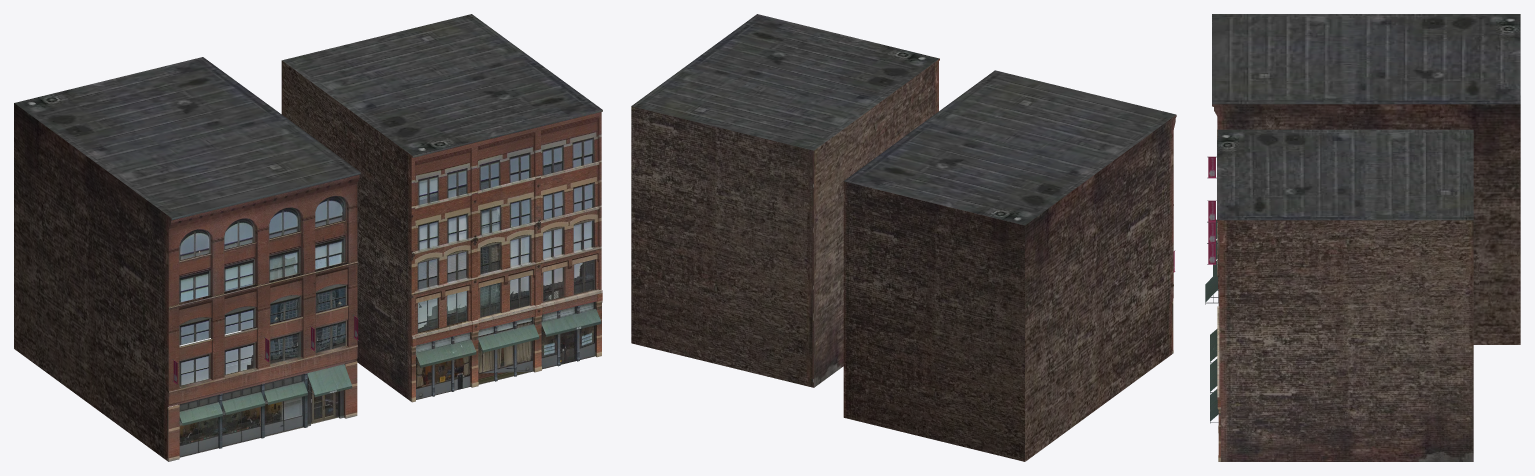
The model's file is chicago_buildings.glb.
The picture shows the model from 3 angles, left to right: view 1: azimuth 30°, elevation 25°; view 2: azimuth 150°, elevation 25°; view 3: azimuth 270°, elevation 25°; orthographic projection. The views are drawn at different scales.
Parts seen in each view (by area): view 1: Object_4, Object_6; view 2: Object_4, Object_6; view 3: Object_6, Object_4.
Part boxes in pixels (<box>): Object_4: <box>14,57,360,461</box>; Object_6: <box>281,14,602,402</box>; Object_4: <box>843,70,1176,461</box>; Object_6: <box>631,14,939,387</box>; Object_6: <box>1210,129,1473,461</box>; Object_4: <box>1205,14,1520,344</box>.
Bounding box in the file's own units: 176 × 95.74 × 113.
2 materials, 2 textured.
